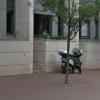Motorcycle: (55, 45, 86, 77)
